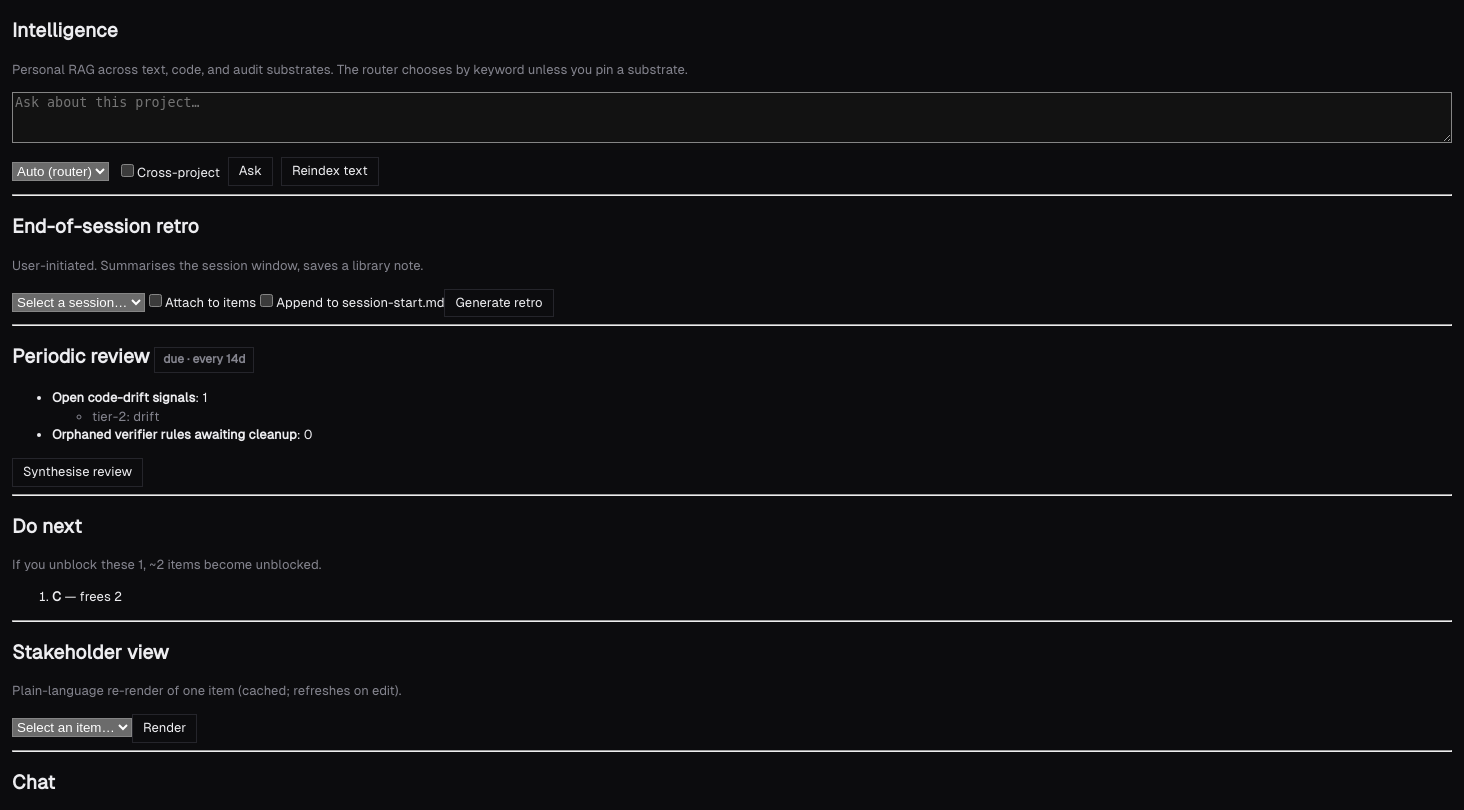
Scenario: Phase 14 — Intelligence (RAG) surface › renders a stakeholder view for an item id
Select "Item Seven" in the dropdown with test id "stake-item" at (72, 728), box [12,718,132,737]
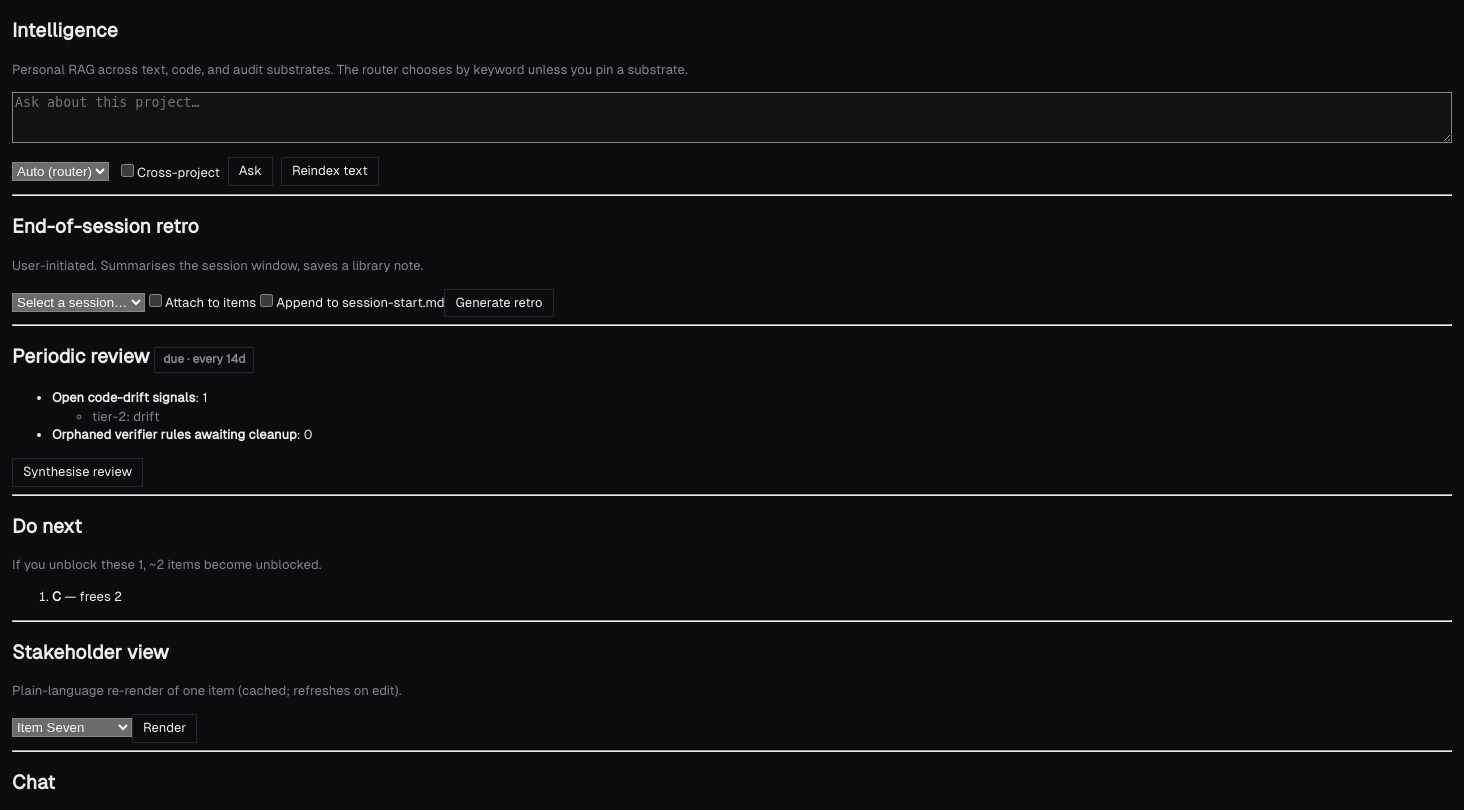
Click the button with test id "stake-run".
click(165, 729)  # box [132,714,197,743]
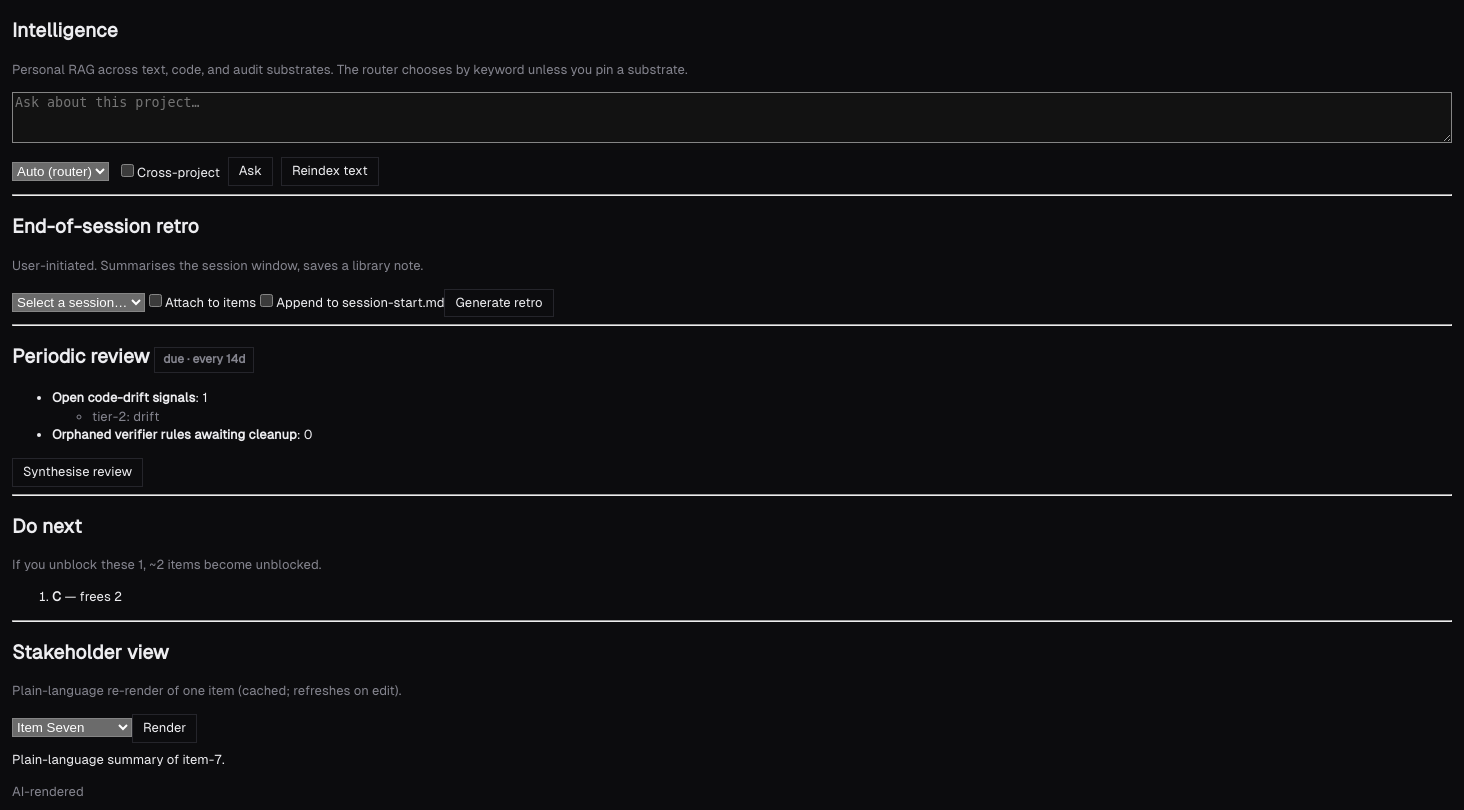
Result: the element with test id "stake-result" is shown at [12,752,224,799]
Result: the element with test id "stake-result" shows "Plain-language summary of item-7" at [12,752,224,767]
